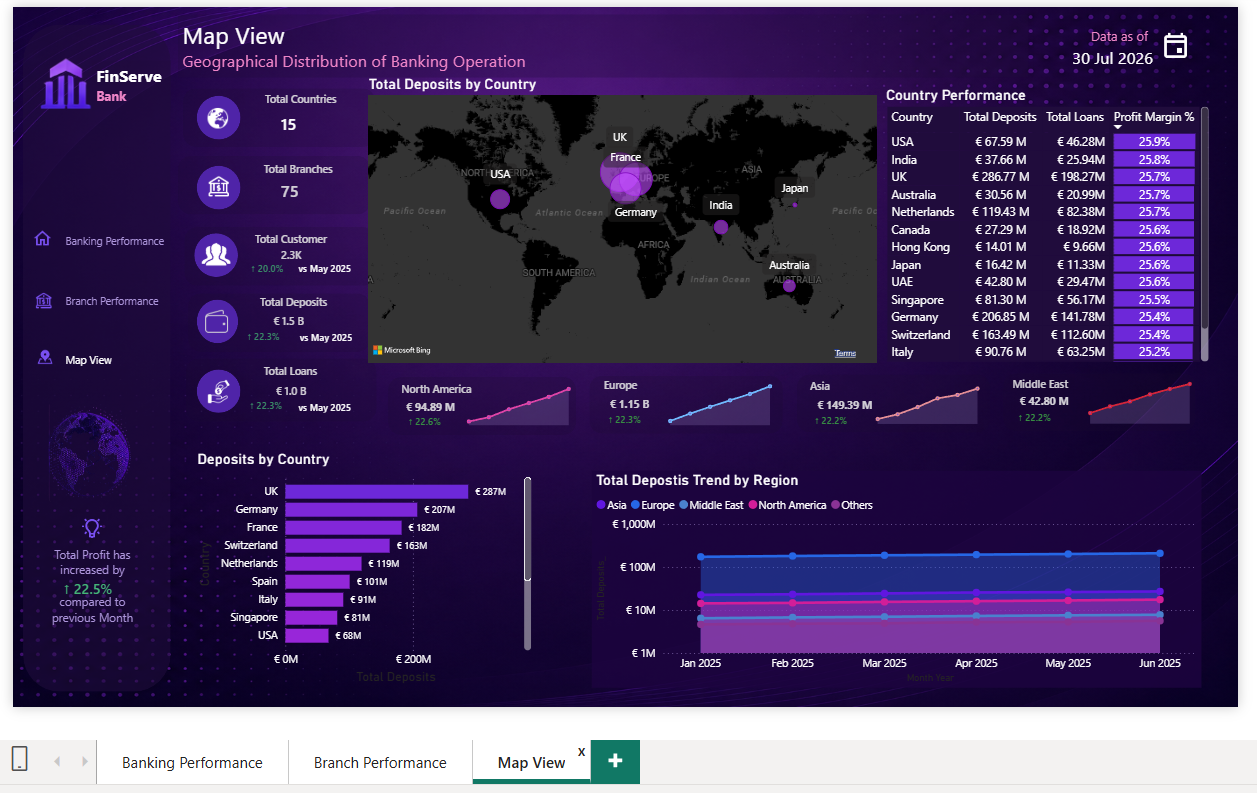

The page's visual inventory and layout, read from the dashboard file:
{"tool":"powerbi","page":{"name":"Map View","canvas":[1400,800],"ordinal":2},"visuals":[{"type":"shape","box":[11.2,20,168.8,762.5],"z":0},{"type":"shape","box":[207.3,258.2,50,50],"z":0,"group":"g4"},{"type":"shape","box":[209.6,335.2,47.3,50],"z":0,"group":"g2"},{"type":"shape","box":[210.9,413.3,50,49.6],"z":0,"group":"g3"},{"type":"shape","box":[209.7,181.9,50,50],"z":1000},{"type":"textbox","box":[270.8,250,104.1,32.4],"z":1000,"group":"g4"},{"type":"image","box":[217.5,344.5,31.2,30.6],"z":1000,"group":"g2"},{"type":"textbox","box":[281.9,401.5,104.1,32.1],"z":1000,"group":"g3"},{"type":"shape","box":[210.4,101.9,50,50],"z":2000},{"type":"cardVisual","fields":{"Data":["Banking_Data.Total Customers Display"]},"box":[276.8,255,124.1,53.5],"z":2000,"group":"g4"},{"type":"textbox","box":[277.7,323.3,98.6,32.4],"z":2000,"group":"g2"},{"type":"cardVisual","fields":{"Data":["Banking_Data.Total Loans Display"]},"box":[271.9,410.2,124,53.3],"z":2000,"group":"g3"},{"type":"textbox","box":[188,8,972,72],"z":3000},{"type":"cardVisual","fields":{"Data":["Banking_Data.Customer Growth Display"]},"box":[242.8,272,105.3,52.4],"z":3000,"group":"g4"},{"type":"cardVisual","fields":{"Data":["Banking_Data.Total_Deposits_Display"]},"box":[268.4,332.2,117.5,53.5],"z":3000,"group":"g2"},{"type":"cardVisual","fields":{"Data":["Banking_Data.Loan Growth Display"]},"box":[241.9,428.2,105.3,51.9],"z":3000,"group":"g3"},{"type":"shape","box":[195.8,252,220,67.1],"z":4000,"group":"g4"},{"type":"cardVisual","fields":{"Data":["Banking_Data.Growth_Display_Dynamic"]},"box":[238.7,352.2,106.1,48],"z":4000,"group":"g2"},{"type":"shape","box":[197.5,400.8,218.8,72.5],"z":4000,"group":"g3"},{"type":"textbox","box":[669.4,417.7,104.1,32.4],"z":4000},{"type":"image","box":[216.1,265.3,33,35],"z":5000,"group":"g4"},{"type":"shape","box":[200,327.9,208.3,67.1],"z":5000,"group":"g2"},{"type":"textbox","box":[1137.7,415,104.1,32.4],"z":5000},{"type":"image","box":[214.6,423.3,42,30.4],"z":5000,"group":"g3"},{"type":"textbox","box":[281.6,170,104.1,32.4],"z":6000},{"type":"cardVisual","fields":{"Data":["Banking_Data.Comparison Text Dynamic"]},"box":[297.8,271,122,52],"z":6000,"group":"g4"},{"type":"textbox","box":[905.7,419,104.1,32.4],"z":7000},{"type":"textbox","box":[282.4,90,104.1,32.4],"z":8000},{"type":"cardVisual","fields":{"Data":["Banking_Data.Total Deposits Display_"]},"box":[1121.5,423.5,124.1,53.5],"z":9000},{"type":"cardVisual","fields":{"Data":["Banking_Data.Total Branches"]},"box":[277.5,181.7,124.1,53.5],"z":10000},{"type":"cardVisual","fields":{"Data":["Banking_Data.Total Deposits Display_"]},"box":[653.3,426.2,124.1,53.5],"z":11000},{"type":"cardVisual","fields":{"Data":["Banking_Data.Middle East Growth Display"]},"box":[1119.5,442,105.3,52.4],"z":12000},{"type":"image","box":[1311.1,20,34.4,51.1],"z":13000},{"type":"cardVisual","fields":{"Data":["Banking_Data.Date Title"]},"box":[1206.7,8.9,132.2,47.8],"z":14000},{"type":"cardVisual","fields":{"Data":["Banking_Data.Total Deposits Display_"]},"box":[889.5,427.4,124.1,53.5],"z":15000},{"type":"textbox","box":[438.2,421.5,104.1,32.4],"z":16000},{"type":"cardVisual","fields":{"Data":["Banking_Data.Current Date"]},"box":[1185.6,32.2,153.3,47.8],"z":17000},{"type":"cardVisual","fields":{"Data":["Banking_Data.Europe Growth Display"]},"box":[651.2,444.7,105.3,52.4],"z":18000},{"type":"textbox","box":[90.6,61.2,90,57.1],"z":19000},{"type":"image","box":[29.4,55.9,61.2,64.7],"z":20000},{"type":"pageNavigator","box":[60,238.3,134.2,196.7],"z":21000},{"type":"cardVisual","fields":{"Data":["Banking_Data.Asia Growth Display"]},"box":[887.5,446,105.3,52.4],"z":22000},{"type":"image","box":[77.7,575.4,26.2,40.8],"z":22000,"group":"g1"},{"type":"cardVisual","fields":{"Data":["Banking_Data.Total Deposits Display_"]},"box":[420,430,124.1,53.5],"z":23000},{"type":"cardVisual","fields":{"Data":["Banking_Data.Profit Growth Display"]},"box":[29.2,629.2,130,66.2],"z":23000,"group":"g1"},{"type":"image","box":[22.3,246.9,21.5,33.8],"z":24000},{"type":"textbox","box":[37,611,110,60],"z":24000,"group":"g1"},{"type":"image","box":[24.6,319.2,21.5,33.8],"z":25000},{"type":"textbox","box":[36.9,665.4,110,60],"z":25000,"group":"g1"},{"type":"cardVisual","fields":{"Data":["Banking_Data.North America Growth Display"]},"box":[423.3,448,120.7,48.7],"z":26000},{"type":"image","box":[26.9,383.8,19.2,32.3],"z":27000},{"type":"shape","box":[188.3,170,220,67.1],"z":28000},{"type":"shape","box":[1132,418,220,66.2],"z":29000},{"type":"shape","box":[194.2,93.3,220,67.1],"z":30000},{"type":"areaChart","title":"Depostis vs Loan Over Time","fields":{"Y":["Banking_Data.Total Deposits_"],"Category":["Banking_Data.Month Year"]},"box":[1216.7,412,142,70],"z":31000},{"type":"image","box":[77.7,575.4,26.2,40.8],"z":32000},{"type":"barChart","title":"Deposits by Country","fields":{"Category":["Banking_Data.Country"],"Y":["Banking_Data.Total Deposits"]},"box":[205,505,391.7,272.5],"z":33000},{"type":"tableEx","title":"Country Performance","fields":{"Values":["Banking_Data.Country","Banking_Data.Total Deposits Display_","Banking_Data.Total Loans","Banking_Data.Profit_Margin %"]},"box":[992.9,90,378.6,320],"z":34000},{"type":"areaChart","title":"Total Depostis Trend by Region","fields":{"Y":["Banking_Data.Total Deposits_"],"Category":["Banking_Data.Month Year"],"Series":["Banking_Data.Region"]},"box":[661.7,530,696.7,248.3],"z":35000},{"type":"image","box":[30,454,117,111],"z":36000},{"type":"shape","box":[895.3,419.3,221.2,66.2],"z":37000},{"type":"image","box":[215.5,114.5,37.3,25.5],"z":38000},{"type":"image","box":[217.3,191.8,35.5,28.2],"z":39000},{"type":"group","id":"g1","title":"Group 5","box":[29.2,575.4,130,150],"z":40000},{"type":"group","id":"g2","title":"Group 9","box":[200,323.3,208.3,76.7],"z":41000},{"type":"shape","box":[658.7,421.3,221.2,66.2],"z":42000},{"type":"cardVisual","fields":{"Data":["Banking_Data.Comparison Text Dynamic"]},"box":[298.3,350,138.7,52],"z":43000},{"type":"group","id":"g3","title":"Group 3","box":[197.5,400.8,218.3,79.2],"z":44000},{"type":"cardVisual","fields":{"Data":["Banking_Data.Comparison Text Dynamic"]},"box":[297.5,430,138.7,52],"z":45000},{"type":"group","id":"g4","title":"Group 10","box":[195.8,250,224.2,75],"z":46000},{"type":"areaChart","title":"Depostis vs Loan Over Time","fields":{"Y":["Banking_Data.Total Deposits_"],"Category":["Banking_Data.Month Year"]},"box":[974.4,415.2,142.3,66.2],"z":47000},{"type":"cardVisual","fields":{"Data":["Banking_Data.Total Countries"]},"box":[276.7,105.8,124.1,53.5],"z":48000},{"type":"shape","box":[428,422.7,215,66.2],"z":49000},{"type":"areaChart","title":"Depostis vs Loan Over Time","fields":{"Y":["Banking_Data.Total Deposits_"],"Category":["Banking_Data.Month Year"]},"box":[737.3,417.3,142.3,66.2],"z":50000},{"type":"areaChart","title":"Depostis vs Loan Over Time","fields":{"Y":["Banking_Data.Total Deposits_"],"Category":["Banking_Data.Month Year"]},"box":[506.9,417.8,142.3,66.2],"z":51000},{"type":"map","title":"Total Deposits by Country","fields":{"Y":["Avg(Map_Data.Latitude)"],"X":["Avg(Map_Data.Longitude)"],"Size":["Map_Data.Map Total Deposits"],"Category":["Map_Data.Country"]},"box":[401.4,77.1,591.4,334.3],"z":52000}]}

Visuals, with their boxes on the page's 1400x800 design canvas (x1, y1, x2, y2). These are canvas units, not pixel positions in the 1257x793 screenshot, which may show the page scaled, cropped or inside an application window:
shape: (11, 20, 180, 782)
shape: (207, 258, 257, 308)
shape: (210, 335, 257, 385)
shape: (211, 413, 261, 463)
shape: (210, 182, 260, 232)
textbox: (271, 250, 375, 282)
image: (218, 344, 249, 375)
textbox: (282, 402, 386, 434)
shape: (210, 102, 260, 152)
cardVisual - Banking_Data.Total Customers Display: (277, 255, 401, 308)
textbox: (278, 323, 376, 356)
cardVisual - Banking_Data.Total Loans Display: (272, 410, 396, 464)
textbox: (188, 8, 1160, 80)
cardVisual - Banking_Data.Customer Growth Display: (243, 272, 348, 324)
cardVisual - Banking_Data.Total_Deposits_Display: (268, 332, 386, 386)
cardVisual - Banking_Data.Loan Growth Display: (242, 428, 347, 480)
shape: (196, 252, 416, 319)
cardVisual - Banking_Data.Growth_Display_Dynamic: (239, 352, 345, 400)
shape: (198, 401, 416, 473)
textbox: (669, 418, 774, 450)
image: (216, 265, 249, 300)
shape: (200, 328, 408, 395)
textbox: (1138, 415, 1242, 447)
image: (215, 423, 257, 454)
textbox: (282, 170, 386, 202)
cardVisual - Banking_Data.Comparison Text Dynamic: (298, 271, 420, 323)
textbox: (906, 419, 1010, 451)
textbox: (282, 90, 386, 122)
cardVisual - Banking_Data.Total Deposits Display_: (1122, 424, 1246, 477)
cardVisual - Banking_Data.Total Branches: (278, 182, 402, 235)
cardVisual - Banking_Data.Total Deposits Display_: (653, 426, 777, 480)
cardVisual - Banking_Data.Middle East Growth Display: (1120, 442, 1225, 494)
image: (1311, 20, 1346, 71)
cardVisual - Banking_Data.Date Title: (1207, 9, 1339, 57)
cardVisual - Banking_Data.Total Deposits Display_: (890, 427, 1014, 481)
textbox: (438, 422, 542, 454)
cardVisual - Banking_Data.Current Date: (1186, 32, 1339, 80)
cardVisual - Banking_Data.Europe Growth Display: (651, 445, 756, 497)
textbox: (91, 61, 181, 118)
image: (29, 56, 91, 121)
pageNavigator: (60, 238, 194, 435)
cardVisual - Banking_Data.Asia Growth Display: (888, 446, 993, 498)
image: (78, 575, 104, 616)
cardVisual - Banking_Data.Total Deposits Display_: (420, 430, 544, 484)
cardVisual - Banking_Data.Profit Growth Display: (29, 629, 159, 695)
image: (22, 247, 44, 281)
textbox: (37, 611, 147, 671)
image: (25, 319, 46, 353)
textbox: (37, 665, 147, 725)
cardVisual - Banking_Data.North America Growth Display: (423, 448, 544, 497)
image: (27, 384, 46, 416)
shape: (188, 170, 408, 237)
shape: (1132, 418, 1352, 484)
shape: (194, 93, 414, 160)
"Depostis vs Loan Over Time" areaChart: (1217, 412, 1359, 482)
image: (78, 575, 104, 616)
"Deposits by Country" barChart: (205, 505, 597, 778)
"Country Performance" tableEx: (993, 90, 1372, 410)
"Total Depostis Trend by Region" areaChart: (662, 530, 1358, 778)
image: (30, 454, 147, 565)
shape: (895, 419, 1116, 486)
image: (216, 114, 253, 140)
image: (217, 192, 253, 220)
"Group 5" group: (29, 575, 159, 725)
"Group 9" group: (200, 323, 408, 400)
shape: (659, 421, 880, 488)
cardVisual - Banking_Data.Comparison Text Dynamic: (298, 350, 437, 402)
"Group 3" group: (198, 401, 416, 480)
cardVisual - Banking_Data.Comparison Text Dynamic: (298, 430, 436, 482)
"Group 10" group: (196, 250, 420, 325)
"Depostis vs Loan Over Time" areaChart: (974, 415, 1117, 481)
cardVisual - Banking_Data.Total Countries: (277, 106, 401, 159)
shape: (428, 423, 643, 489)
"Depostis vs Loan Over Time" areaChart: (737, 417, 880, 484)
"Depostis vs Loan Over Time" areaChart: (507, 418, 649, 484)
"Total Deposits by Country" map: (401, 77, 993, 411)
